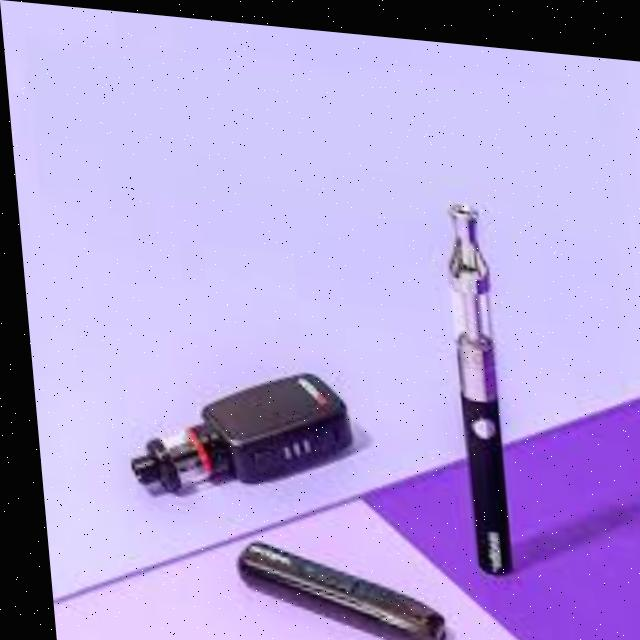vape: (100, 349, 359, 504), (438, 188, 506, 568), (226, 533, 440, 640)
